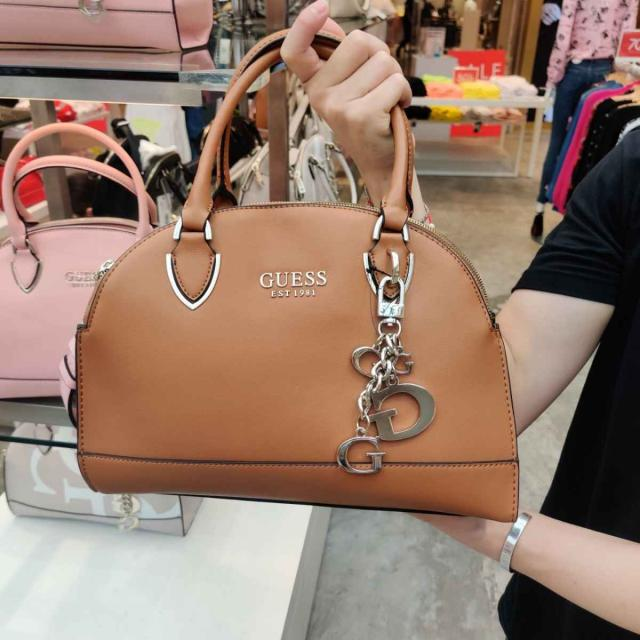handbag: (71, 21, 528, 527)
